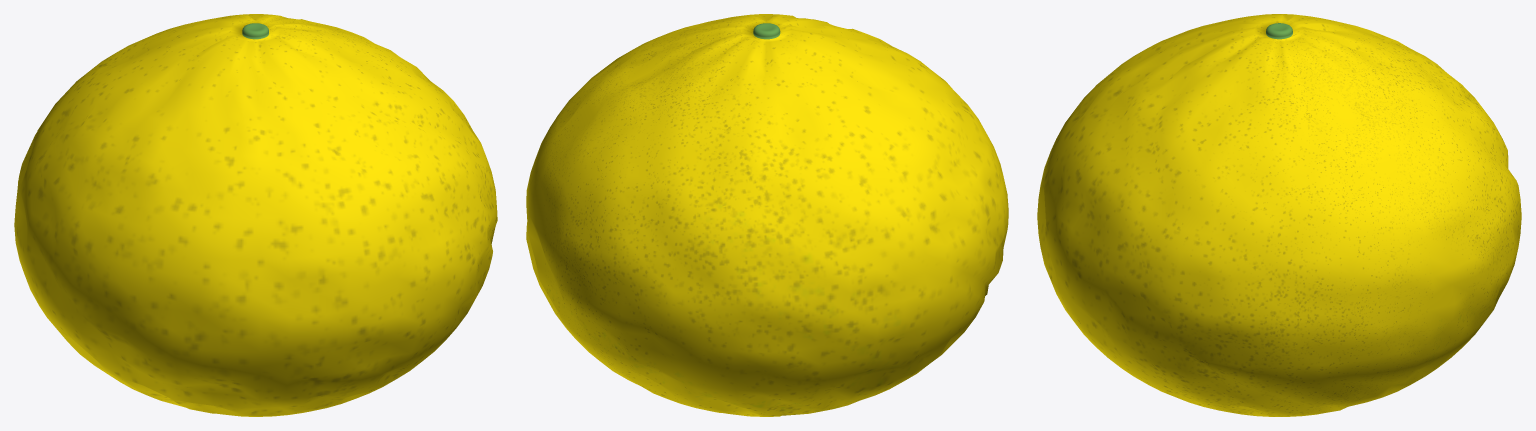
The model's file is yuzu.glb.
3 renders of one model, left to right at view 1: azimuth 30°, elevation 25°; view 2: azimuth 150°, elevation 25°; view 3: azimuth 270°, elevation 25°, orthographic.
Visible parts, largest first — view 1: 球; view 2: 球; view 3: 球.
Boxes of the visible parts, x1,y1,x2,y2 form: 球: (14,14,497,416); 球: (526,14,1008,416); 球: (1037,14,1521,416).
Size of the model in its own units: 0.4923 by 0.3862 by 0.4933.
Materials: 1 (1 with a texture image).
